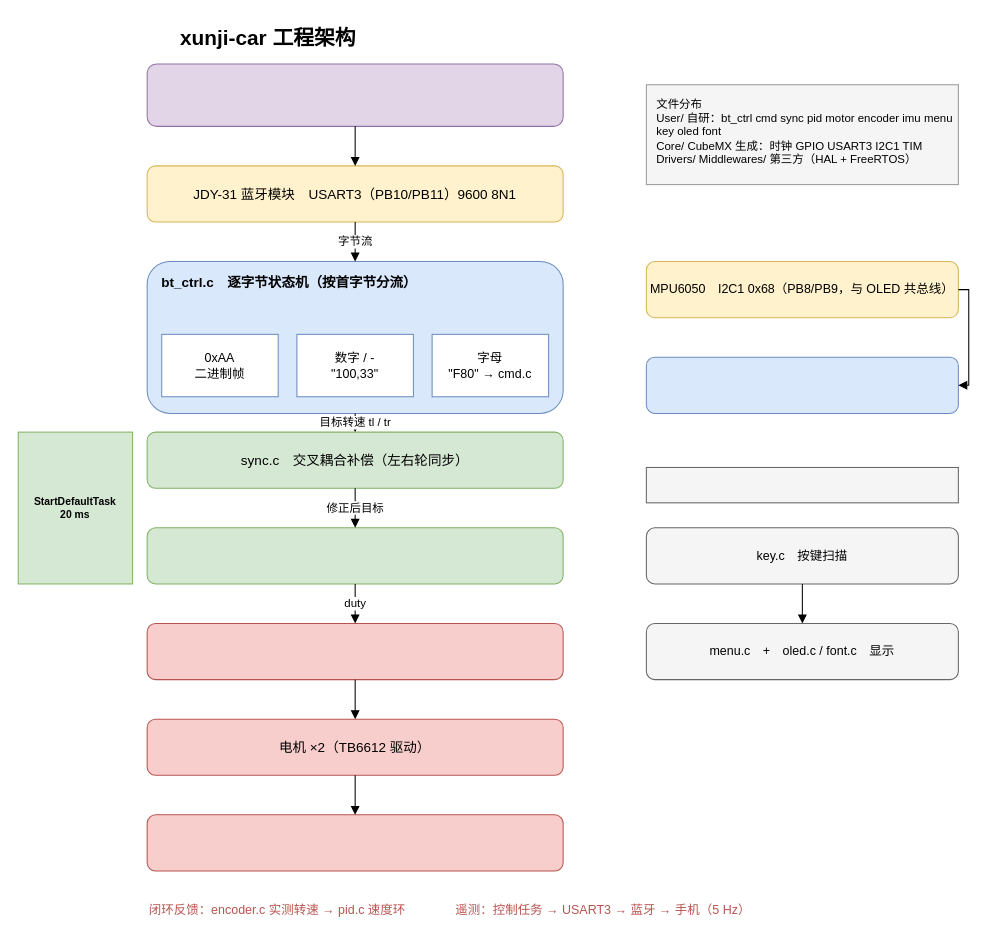
This 995x938 diagram has some shape labels left out. The centre of each missing label's shape, as x and y in pixels:
"encoder.c 编码器测速（TIM1 / TIM4）" belongs at point 354,842.
"imu.c 姿态解算（陀螺积分 + 编码器融合）" belongs at point 801,384.
"motor.c PWM 输出" belongs at point 354,651.
"pid.c 速度环 ×2（左 / 右）" belongs at point 354,555.
"StartTask02 10 ms" belongs at point 801,484.
"外部输入 手机 App（F/B/L/R/S） PC 手柄 PC 网页" belongs at point 354,94.
